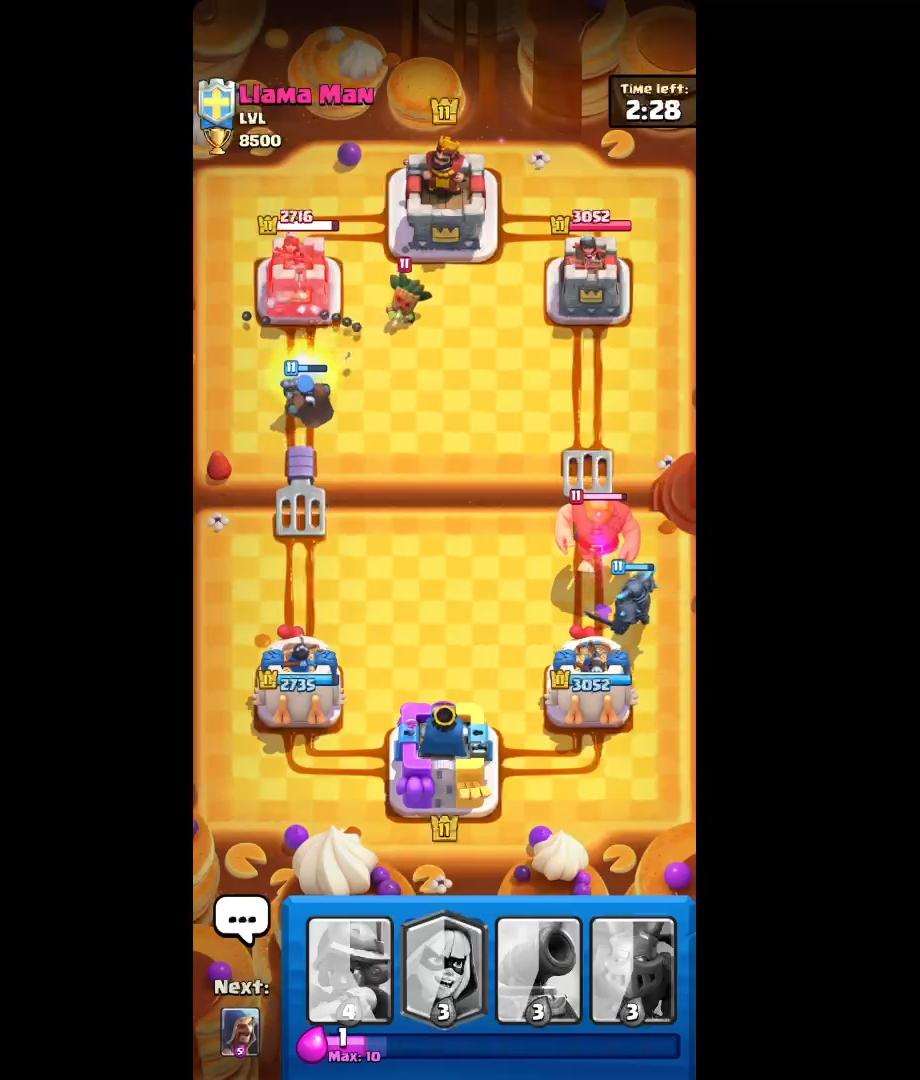Dart Goblin: (378, 258, 438, 332)
